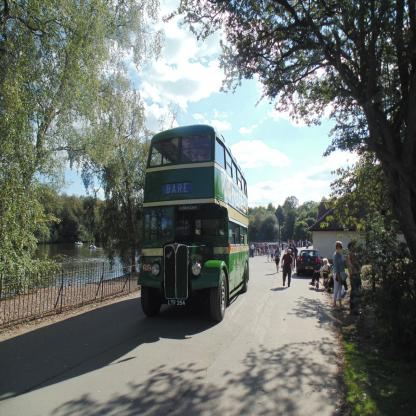Bus: (135, 124, 249, 318)
